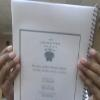notebook: (10, 0, 99, 99)
